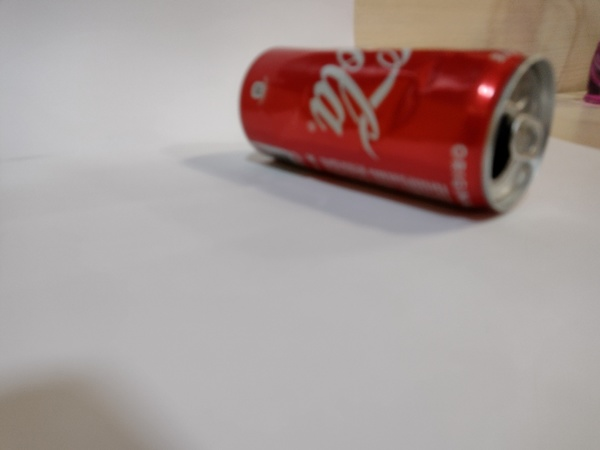can: (236, 40, 561, 222)
